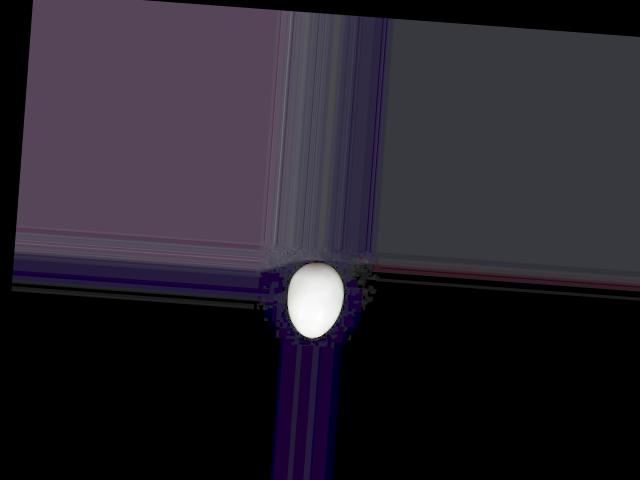egg: (285, 259, 344, 339)
